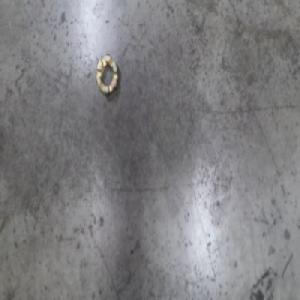Nut: (93, 50, 119, 95)
